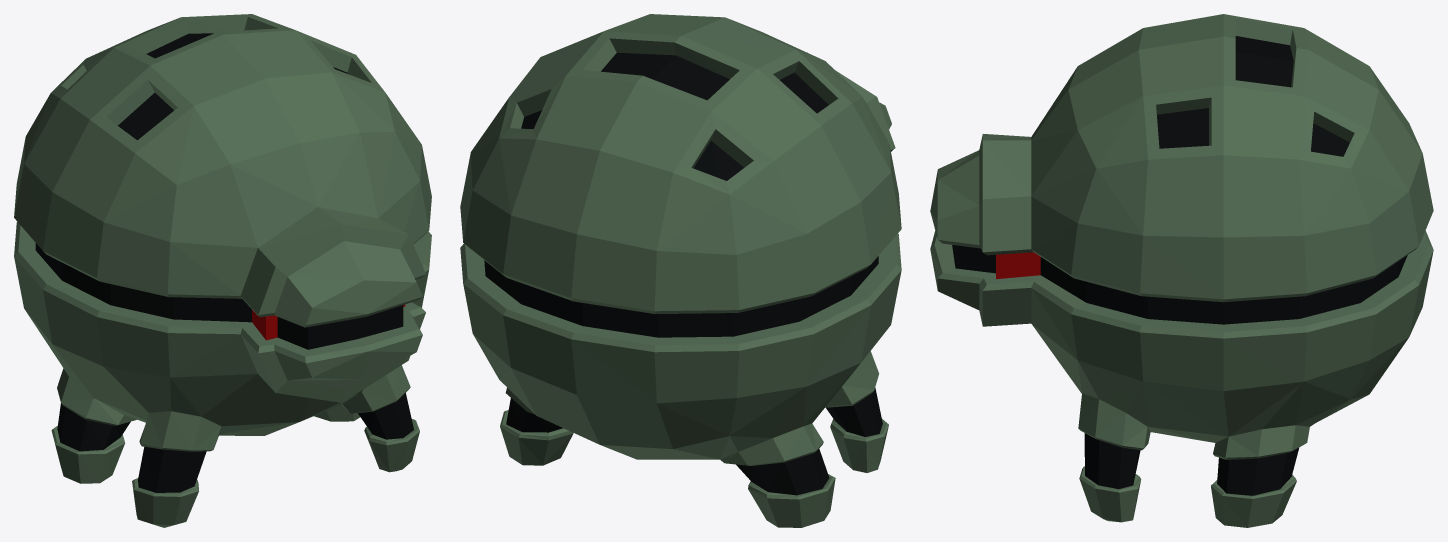
Rendered from roly_poly3.obj.
3 views of the same model, side by side, from view 1: azimuth 30°, elevation 25°; view 2: azimuth 150°, elevation 25°; view 3: azimuth 270°, elevation 25° (orthographic). The views are drawn at different scales.
Visible parts, largest first — view 1: Cube.002_white_decal, Cube.002_black_body, Cube.002_red_accent; view 2: Cube.002_white_decal, Cube.002_black_body; view 3: Cube.002_white_decal, Cube.002_black_body, Cube.002_red_accent.
Boxes of the visible parts, x1=… form: Cube.002_white_decal: x1=14, y1=14, x2=431, y2=527; Cube.002_black_body: x1=35, y1=33, x2=413, y2=492; Cube.002_red_accent: x1=252, y1=304, x2=405, y2=340; Cube.002_white_decal: x1=460, y1=14, x2=901, y2=527; Cube.002_black_body: x1=484, y1=52, x2=882, y2=495; Cube.002_white_decal: x1=930, y1=14, x2=1433, y2=527; Cube.002_black_body: x1=952, y1=36, x2=1407, y2=495; Cube.002_red_accent: x1=996, y1=252, x2=1040, y2=279.
Size of the model in its own units: 0.2342 by 0.2628 by 0.2807.
